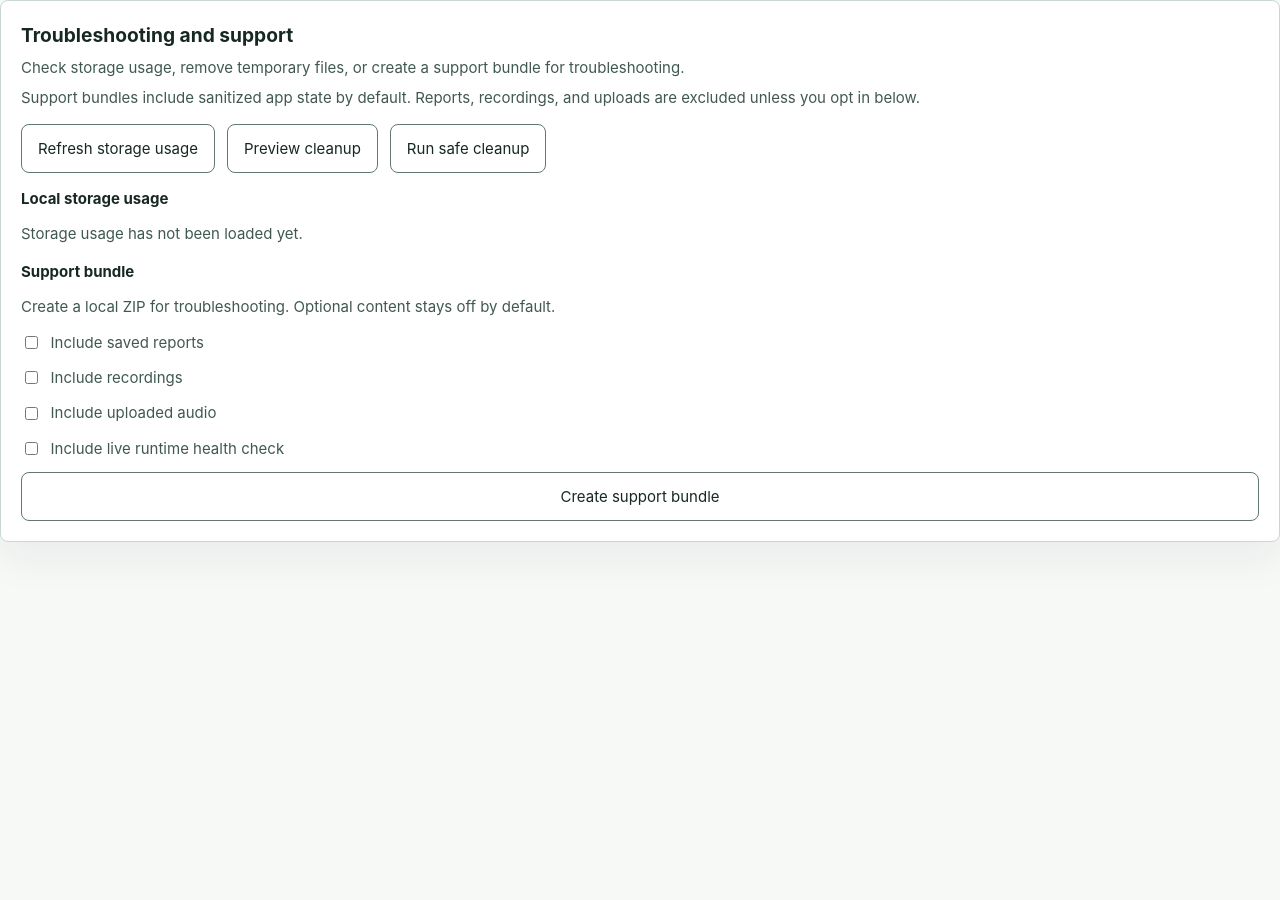
it: reports a browser download as started rather than saved
This screenshot has width=1280, height=900.
Click the button with test id "settings.support_create_bundle" at (640, 497), box [21,472,1259,521]
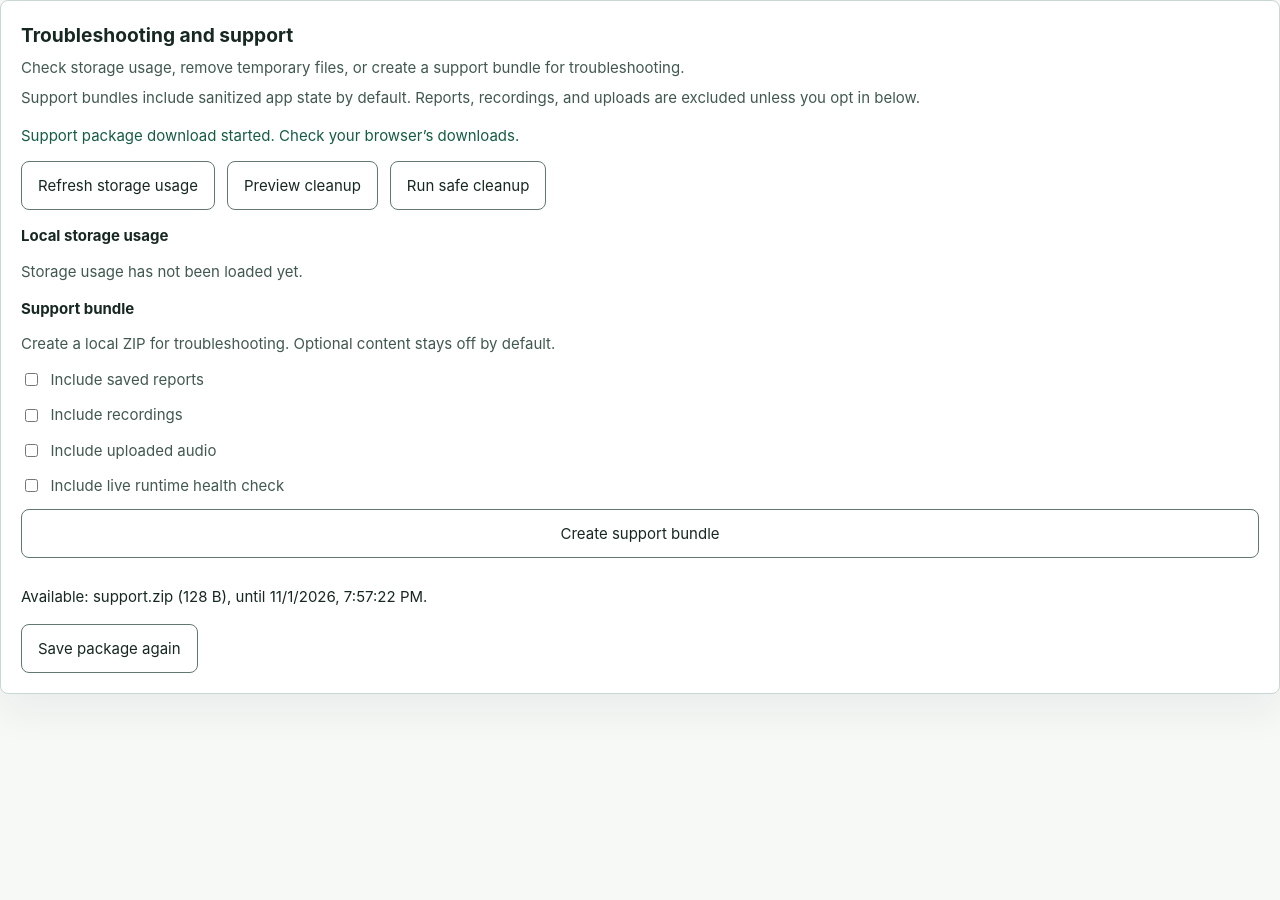
Expected: the text "Support package download started. Check your browser’s downloads." is shown, [21,126,519,145]
